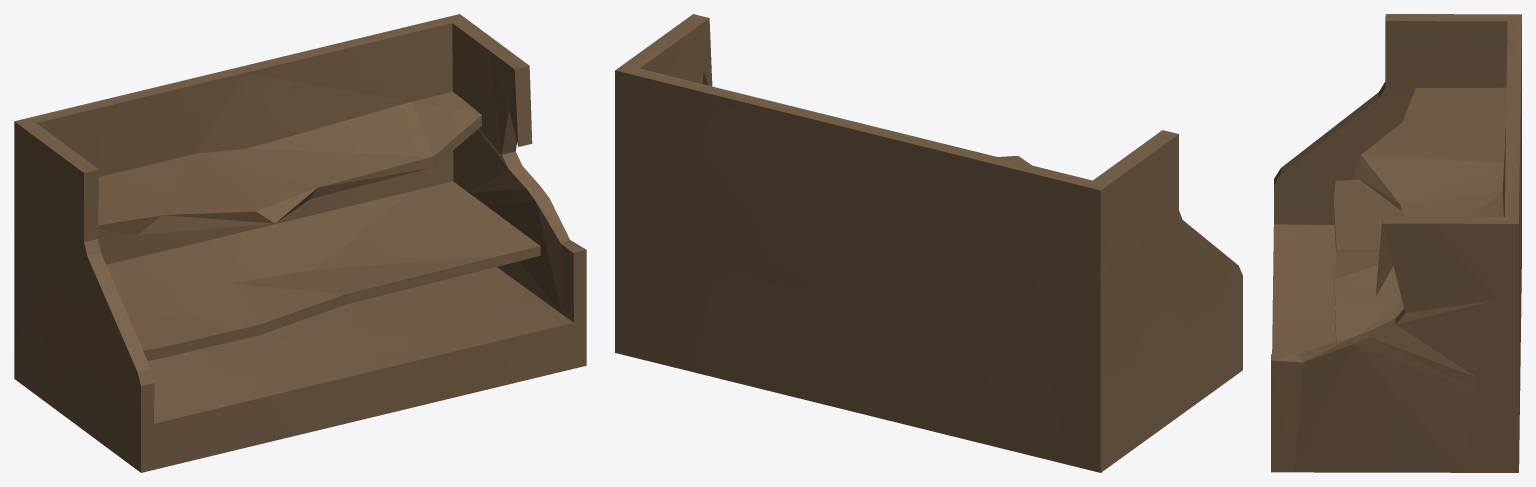
Rendered from leaflet_holder_1.obj.
The picture shows the model from 3 angles, left to right: view 1: azimuth 30°, elevation 25°; view 2: azimuth 150°, elevation 25°; view 3: azimuth 270°, elevation 25°; orthographic projection. The views are drawn at different scales.
Parts seen in each view (by area): view 1: leaflet_holder_1_Material; view 2: leaflet_holder_1_Material; view 3: leaflet_holder_1_Material.
Part boxes in pixels (x1=…): leaflet_holder_1_Material: x1=14, y1=14, x2=586, y2=472; leaflet_holder_1_Material: x1=615, y1=14, x2=1242, y2=472; leaflet_holder_1_Material: x1=1271, y1=14, x2=1521, y2=472.
Bounding box in the file's own units: 0.5926 × 0.3244 × 0.2961.
